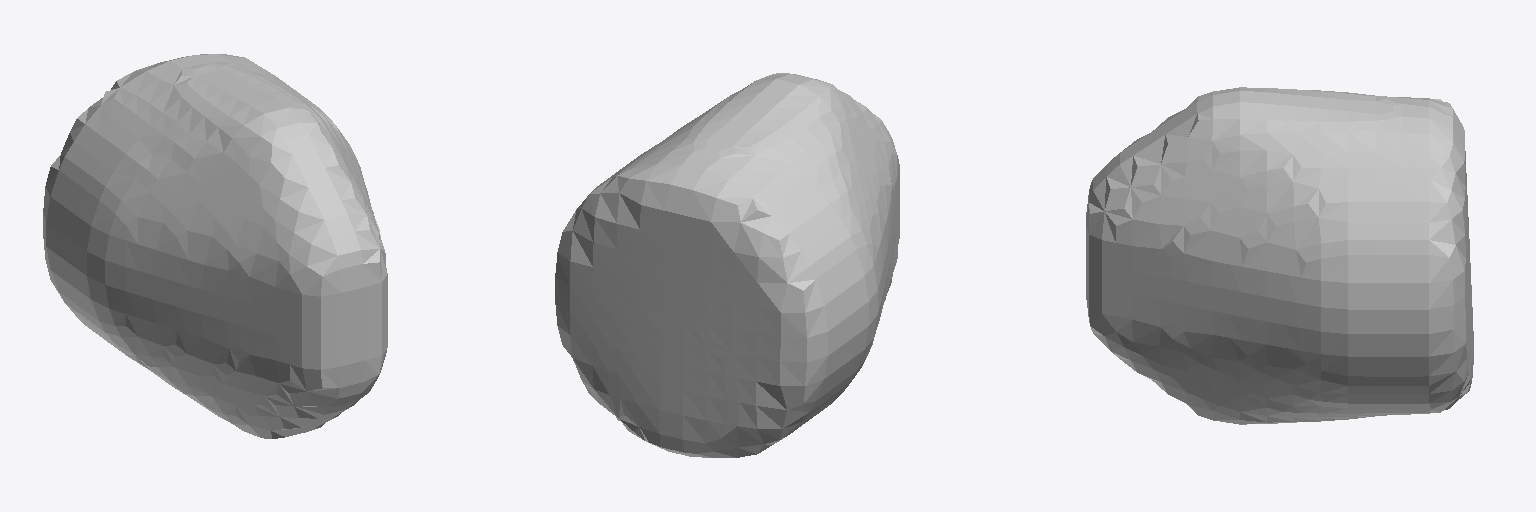
Rendered from robotiq_arg2f_base_link_collisions_mesh_0.obj.
3 renders of one model, left to right at view 1: azimuth 30°, elevation 25°; view 2: azimuth 150°, elevation 25°; view 3: azimuth 270°, elevation 25°, orthographic.
Parts seen in each view (by area): view 1: robotiq_arg2f_base_link_collisions_mesh_0; view 2: robotiq_arg2f_base_link_collisions_mesh_0; view 3: robotiq_arg2f_base_link_collisions_mesh_0.
Boxes of the visible parts, <box> form: robotiq_arg2f_base_link_collisions_mesh_0: <box>43,54,387,438</box>; robotiq_arg2f_base_link_collisions_mesh_0: <box>555,73,899,457</box>; robotiq_arg2f_base_link_collisions_mesh_0: <box>1086,87,1473,424</box>.
Size of the model in its own units: 0.0744 by 0.0841 by 0.0924.